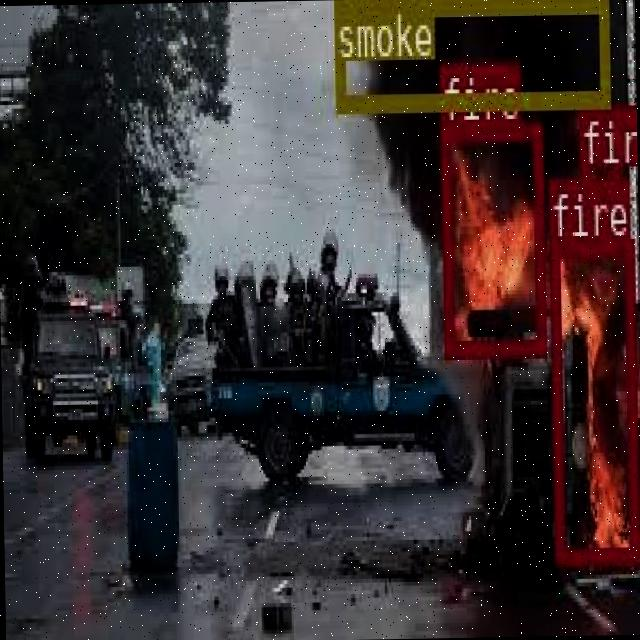fire: (548, 238, 638, 560), (438, 120, 544, 356), (578, 104, 619, 238)
smoke: (332, 0, 607, 110)
